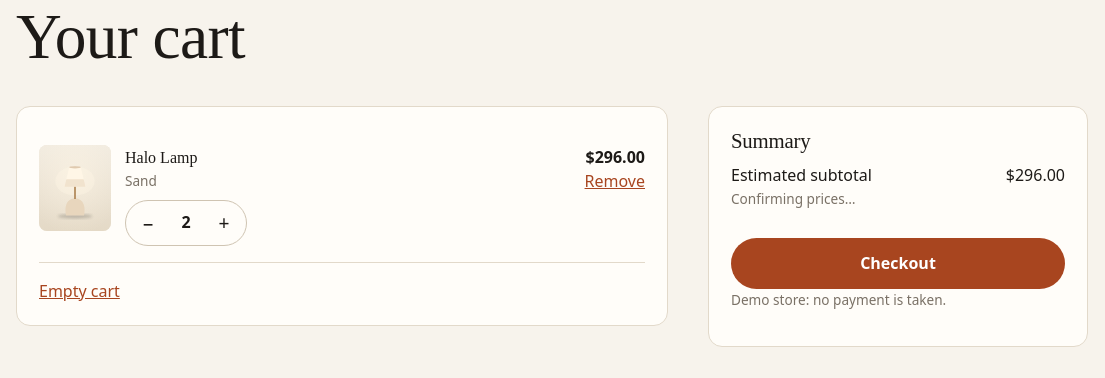
Test: cart drawer and page › changes quantity, removes items, and reaches the empty state
What coordinates should you click on to do the following:
click the button named "Increase quantity of Halo Lamp"
I would click on:
 (224, 222)
Its box is [202,200,246,244].
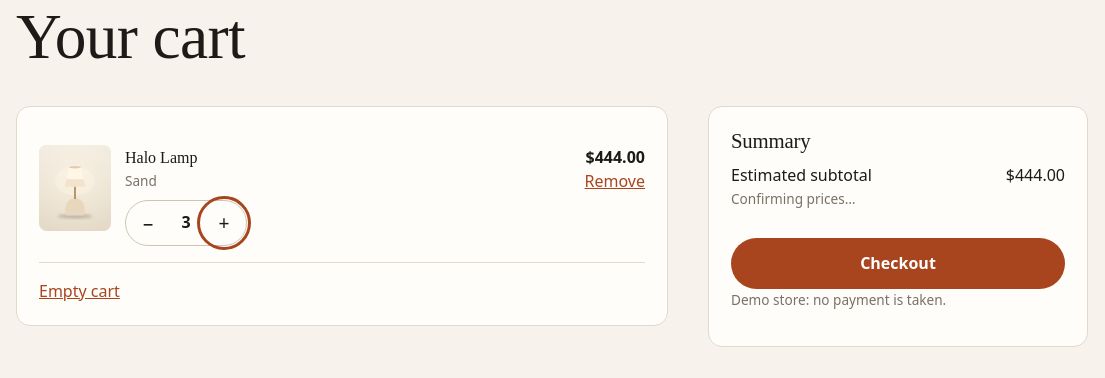
What coordinates should you click on to do the following:
click the button named "Decrease quantity of Halo Lamp"
I would click on:
 (148, 222)
Its box is [126,200,170,244].
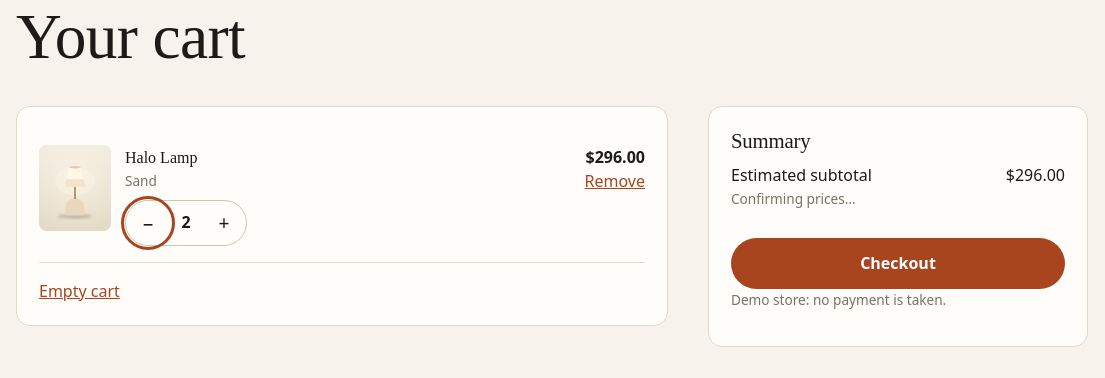
What coordinates should you click on to do the following:
click the button "Remove"
I would click on:
 (615, 182)
Its box is [584,170,645,194].
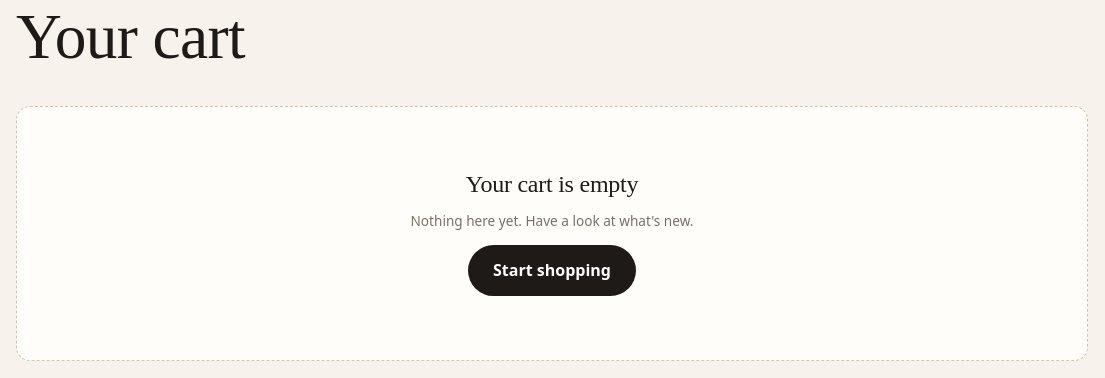
Expected: the heading "Your cart is empty" is shown, [466,171,638,197]
